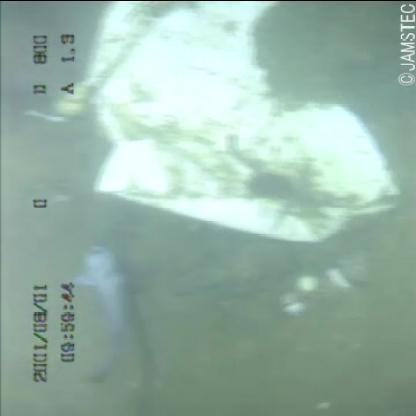Bio: (70, 240, 140, 388), (54, 73, 94, 117)
Rác: (75, 1, 399, 269)
